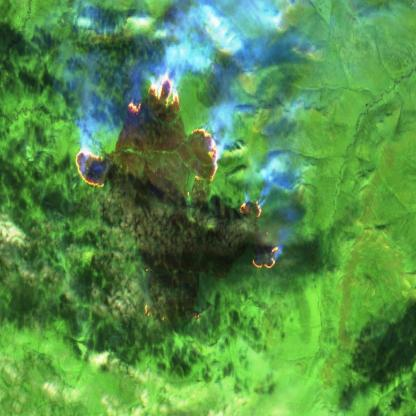fire: (75, 69, 280, 272)
